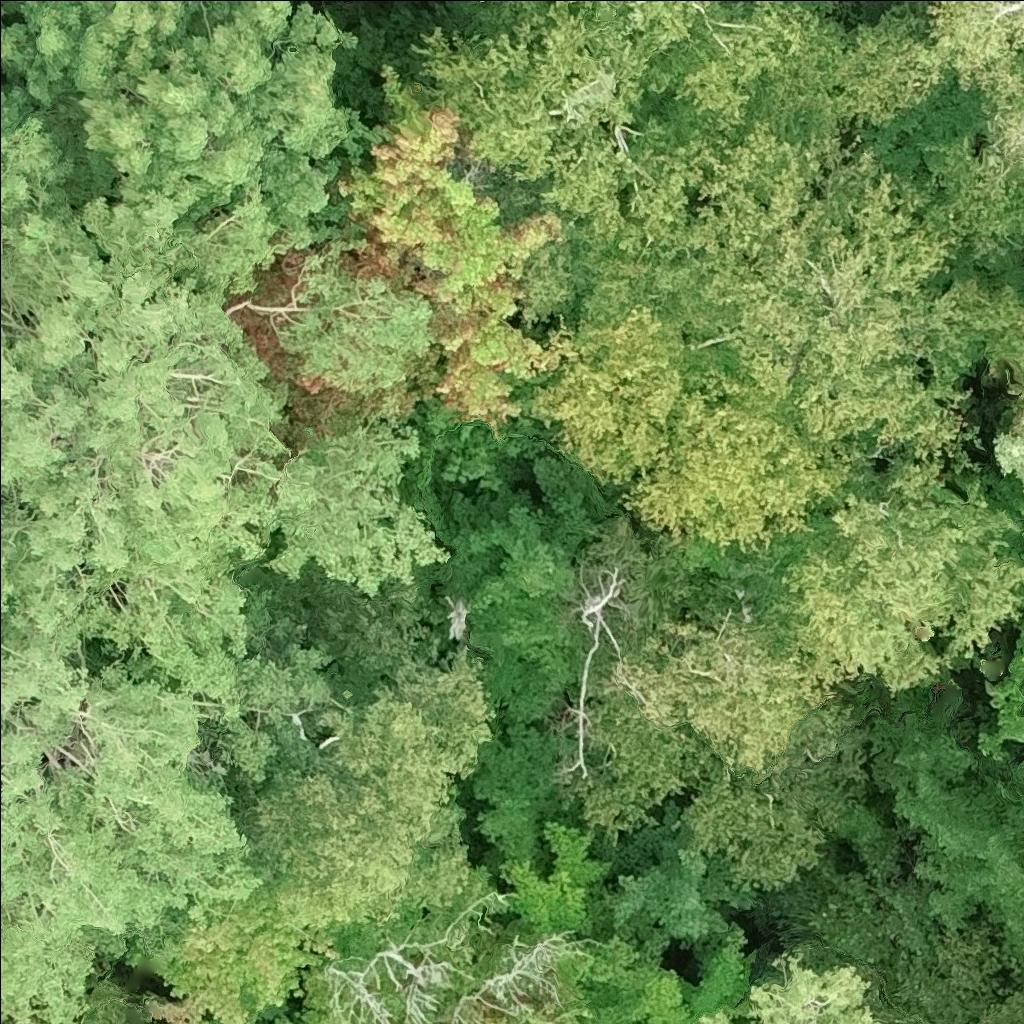crown: (523, 132, 1018, 461), (390, 0, 944, 187), (0, 618, 255, 1023), (208, 568, 496, 923), (532, 283, 863, 550), (337, 88, 564, 431), (292, 861, 637, 1023), (785, 490, 1023, 688), (124, 867, 362, 1023), (908, 0, 1023, 266), (580, 930, 751, 1023), (713, 953, 883, 1023), (66, 974, 150, 1023), (984, 649, 1023, 745), (990, 401, 1023, 486), (996, 514, 1023, 590), (272, 1013, 291, 1023), (1022, 602, 1023, 637)
